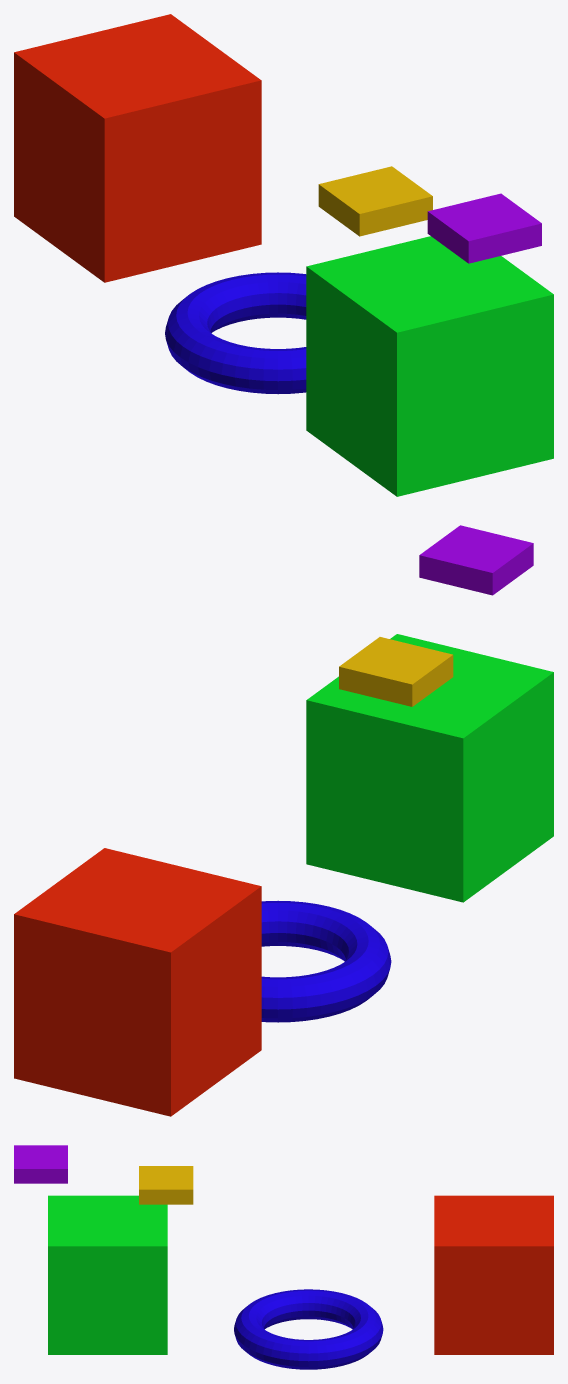
3 renders of one model, top to bottom at view 1: azimuth 30°, elevation 25°; view 2: azimuth 150°, elevation 25°; view 3: azimuth 270°, elevation 25°, orthographic. The views are drawn at different scales.
Parts seen in each view (by area): view 1: Cube.001, Cube, Torus, Cube.003, Cube.002; view 2: Cube.001, Cube, Torus, Cube.002, Cube.003; view 3: Cube.001, Cube, Torus, Cube.002, Cube.003.
Boxes of the visible parts, left/top/right/bottom form: Cube.001: left=14, top=14, right=261, bottom=282; Cube: left=306, top=236, right=553, bottom=496; Torus: left=165, top=272, right=306, bottom=394; Cube.003: left=427, top=193, right=541, bottom=263; Cube.002: left=318, top=166, right=432, bottom=236; Cube.001: left=14, top=848, right=261, bottom=1116; Cube: left=306, top=634, right=553, bottom=902; Torus: left=261, top=900, right=391, bottom=1022; Cube.002: left=339, top=637, right=453, bottom=706; Cube.003: left=419, top=525, right=533, bottom=595; Cube.001: left=434, top=1195, right=553, bottom=1354; Cube: left=48, top=1195, right=167, bottom=1354; Torus: left=234, top=1289, right=383, bottom=1369; Cube.002: left=139, top=1166, right=193, bottom=1204; Cube.003: left=14, top=1145, right=67, bottom=1183.
Size of the model in its own units: 2.5 by 3.46 by 9.02.
